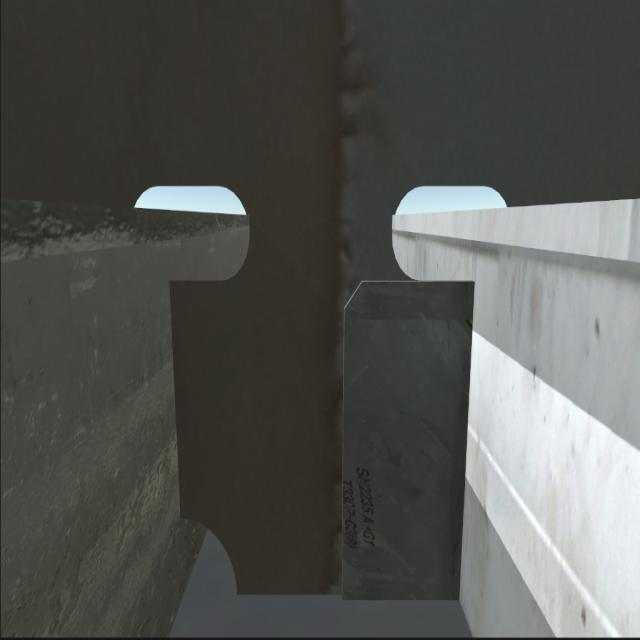fillet_hole: (183, 510, 238, 595)
fillet_yong_jeop_jang: (234, 584, 458, 608)
longi_yong_jeop_jang: (164, 279, 192, 529), (457, 274, 475, 605)
plate_CP03: (337, 278, 464, 599)
